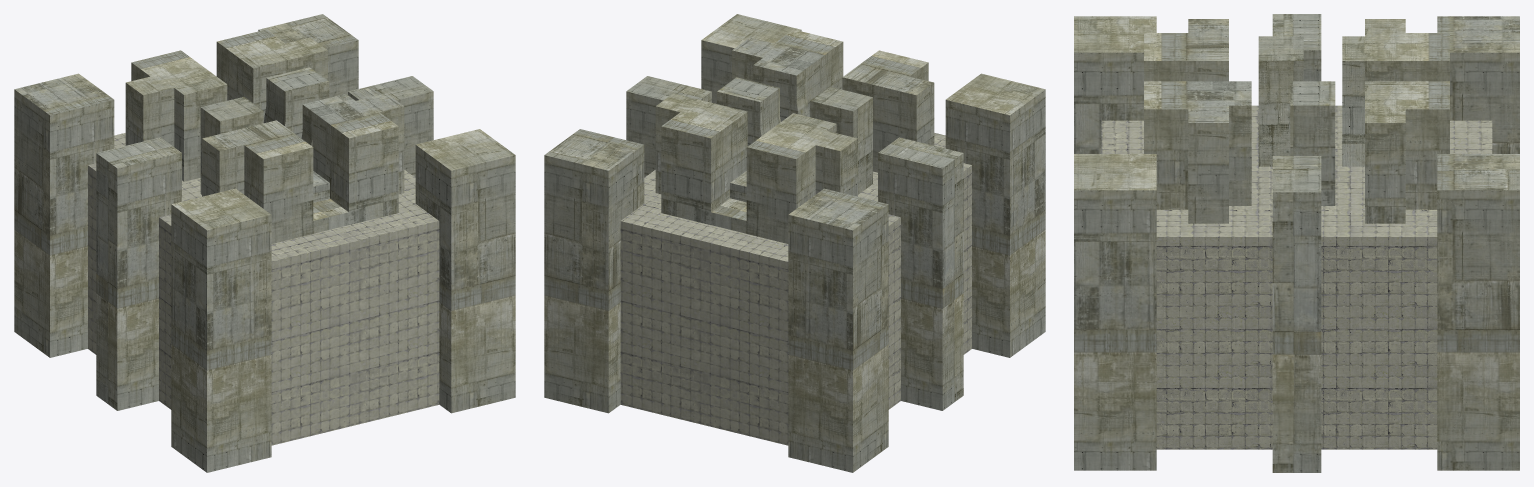
The model's file is SM_LDFest_03_SHADOW.fbx.
3 renders of one model, left to right at view 1: azimuth 30°, elevation 25°; view 2: azimuth 150°, elevation 25°; view 3: azimuth 270°, elevation 25°, orthographic. The views are drawn at different scales.
Visible parts, largest first — view 1: SM_LDFest_03_SHADOW; view 2: SM_LDFest_03_SHADOW; view 3: SM_LDFest_03_SHADOW.
Part boxes in pixels (bbox=[...]): SM_LDFest_03_SHADOW: bbox=[14, 14, 515, 472]; SM_LDFest_03_SHADOW: bbox=[544, 14, 1045, 472]; SM_LDFest_03_SHADOW: bbox=[1074, 14, 1519, 472].
Bounding box in the file's own units: 4843 × 3958 × 5114.
